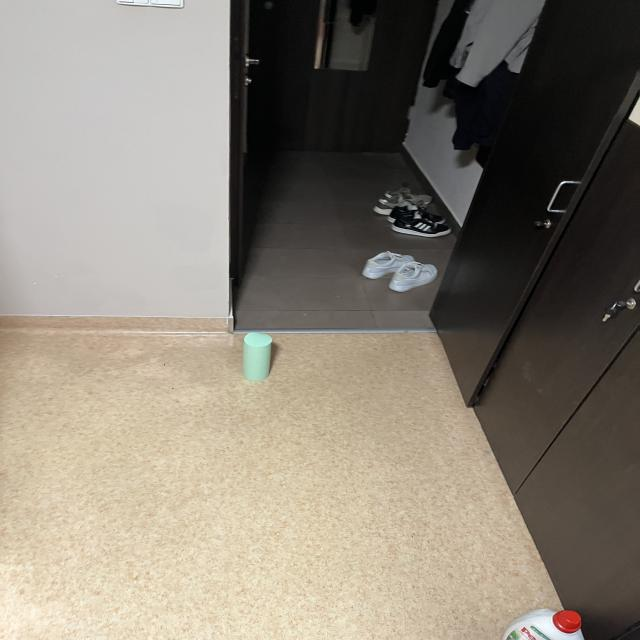meta: (243, 333, 272, 381)
